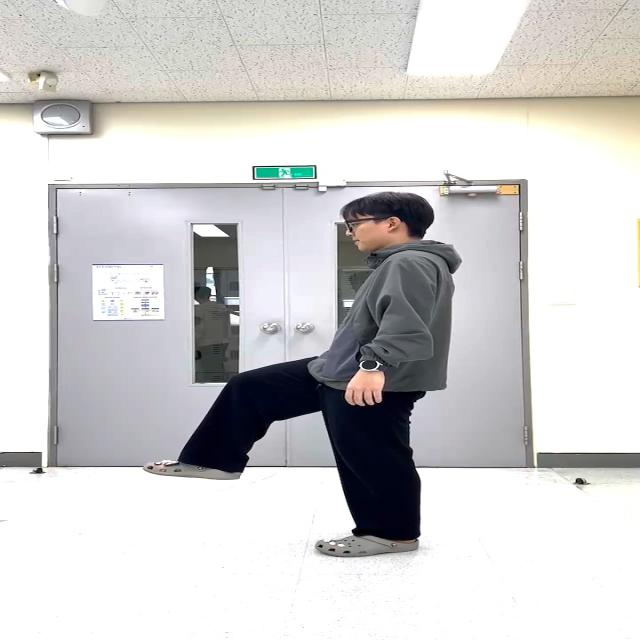leg: (142, 356, 321, 480), (315, 383, 423, 555)
